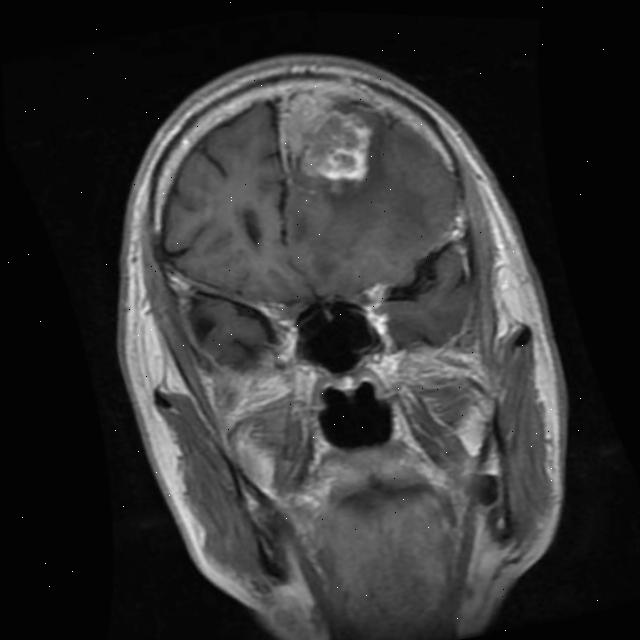Meningioma: (264, 72, 386, 200)
Pituitary: (329, 364, 367, 399)
